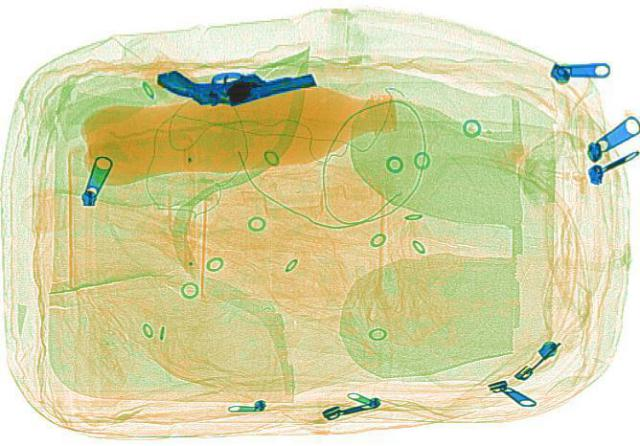Gun: (154, 63, 314, 108)
